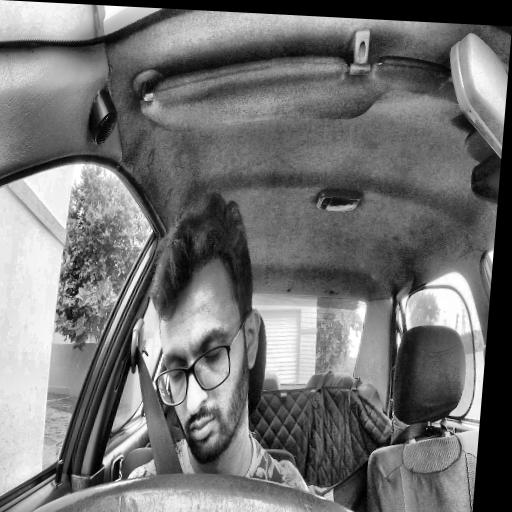drowsy: (139, 188, 271, 469)
